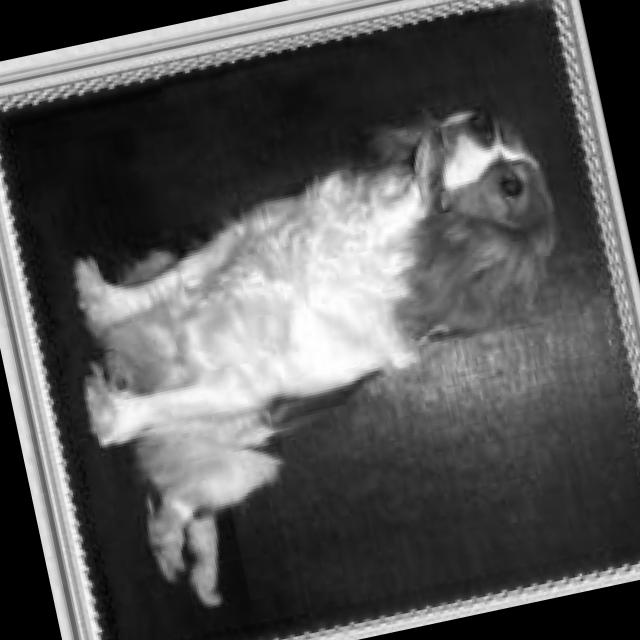sitting: (32, 81, 628, 630)
